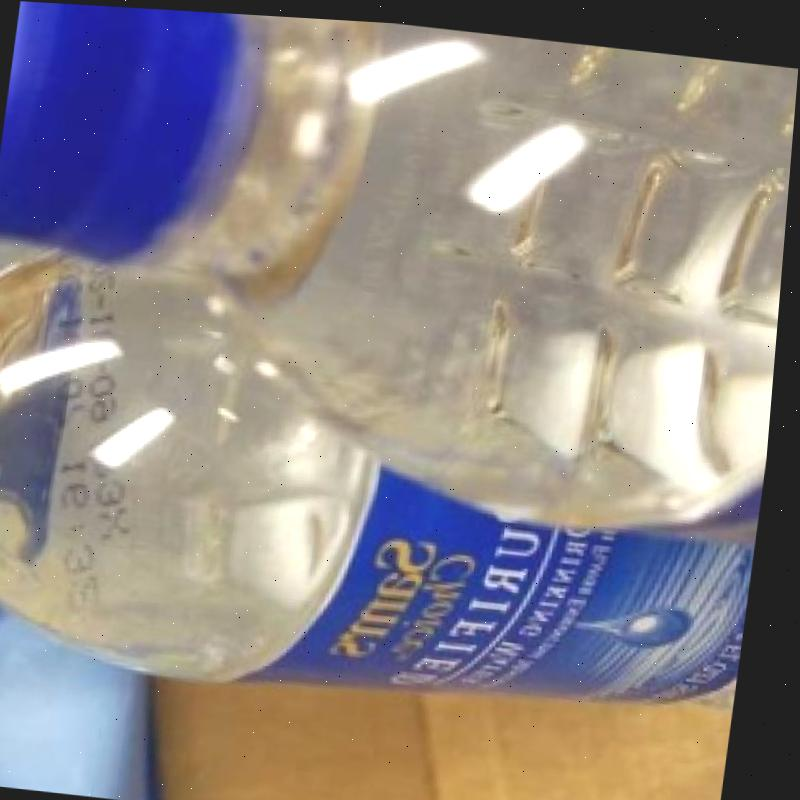botella: (0, 0, 800, 542), (0, 240, 785, 734)
